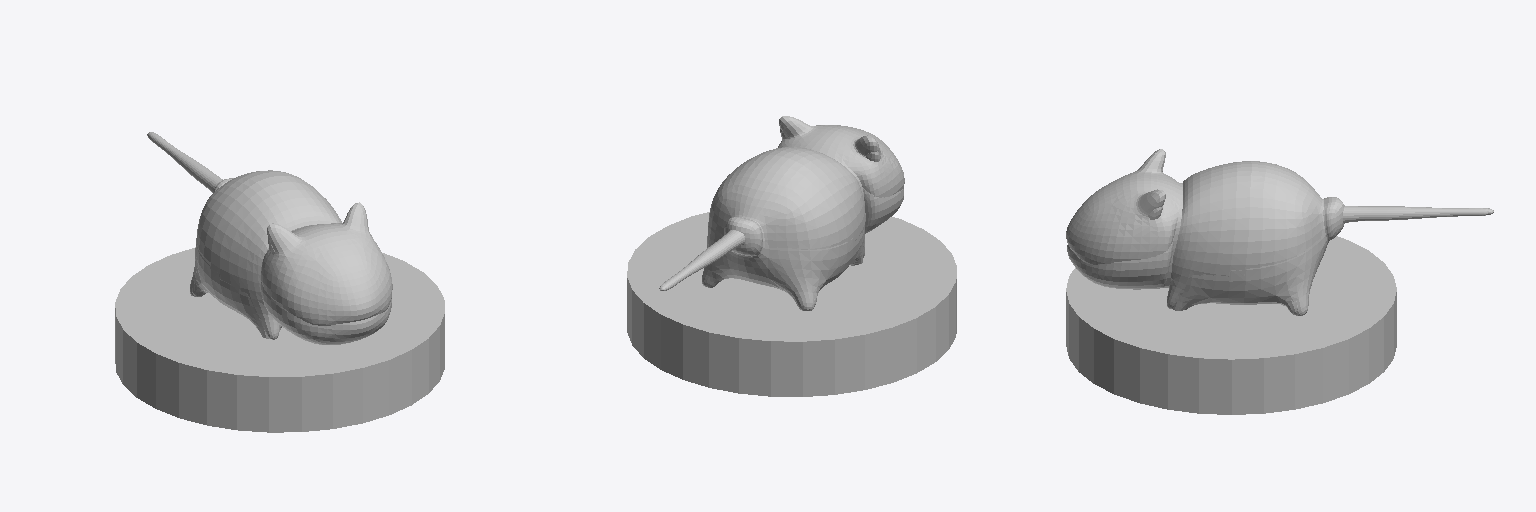
File: nyanko sensei packed.obj
3 renders of one model, left to right at view 1: azimuth 30°, elevation 25°; view 2: azimuth 150°, elevation 25°; view 3: azimuth 270°, elevation 25°, orthographic.
Parts seen in each view (by area): view 1: Cylinder, Cube_Cube.002, Cube.001_Cube.007; view 2: Cylinder, Cube_Cube.002, Cube.001_Cube.007; view 3: Cylinder, Cube_Cube.002, Cube.001_Cube.007.
Part boxes in pixels (x1,y1,x2,y2): Cylinder: (115,247,444,432); Cube_Cube.002: (147,132,392,339); Cube.001_Cube.007: (190,178,391,344); Cylinder: (627,212,956,396); Cube_Cube.002: (659,116,904,306); Cube.001_Cube.007: (702,129,903,310); Cylinder: (1066,236,1396,414); Cube_Cube.002: (1066,149,1493,314); Cube.001_Cube.007: (1067,197,1344,315).
Size of the model in its own units: 3.96 by 2.36 by 5.13.